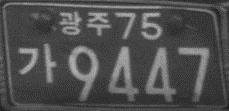4: (106, 44, 139, 101), (144, 46, 177, 103)
5: (139, 11, 163, 42)
7: (175, 45, 211, 104), (113, 10, 137, 40)
9: (67, 44, 98, 103)
가: (16, 42, 57, 84)
광주_O: (58, 9, 111, 38)
